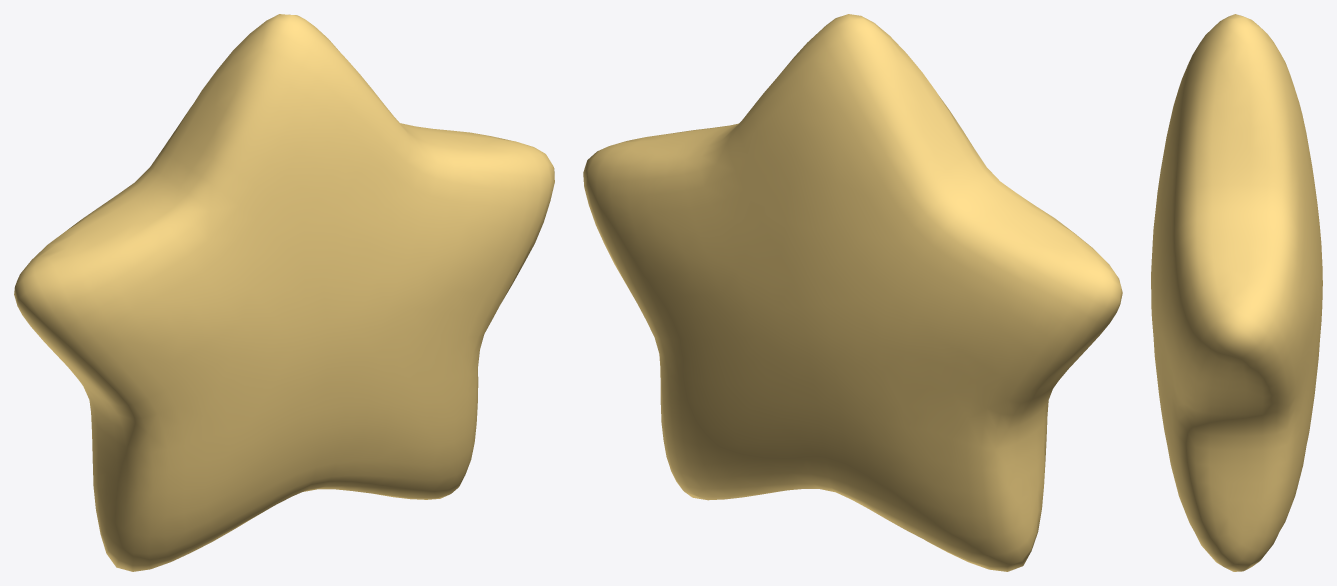
File: star.glb
3 renders of one model, left to right at view 1: azimuth 30°, elevation 25°; view 2: azimuth 150°, elevation 25°; view 3: azimuth 270°, elevation 25°, orthographic. The views are drawn at different scales.
Visible parts, largest first — view 1: Star; view 2: Star; view 3: Star.
Boxes of the visible parts, x1=… form: Star: x1=14, y1=14, x2=554, y2=571; Star: x1=583, y1=14, x2=1122, y2=571; Star: x1=1151, y1=14, x2=1322, y2=571.
Bounding box in the file's own units: 0.226 × 0.2091 × 0.0674.
